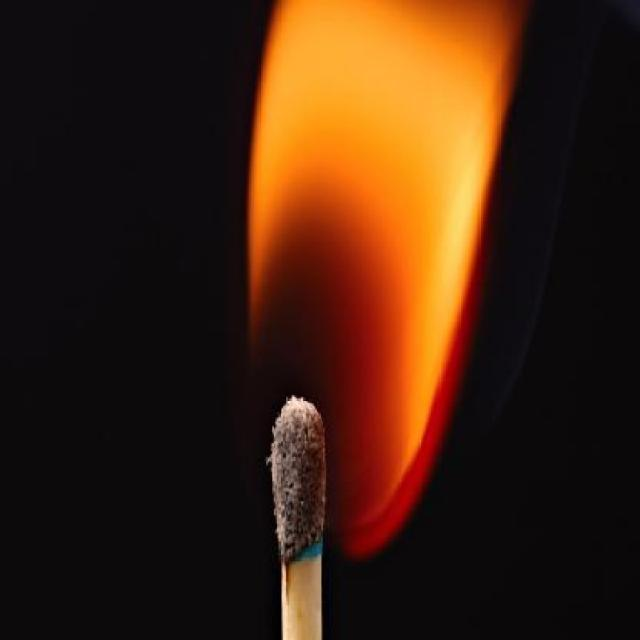Fire: (240, 2, 532, 564)
